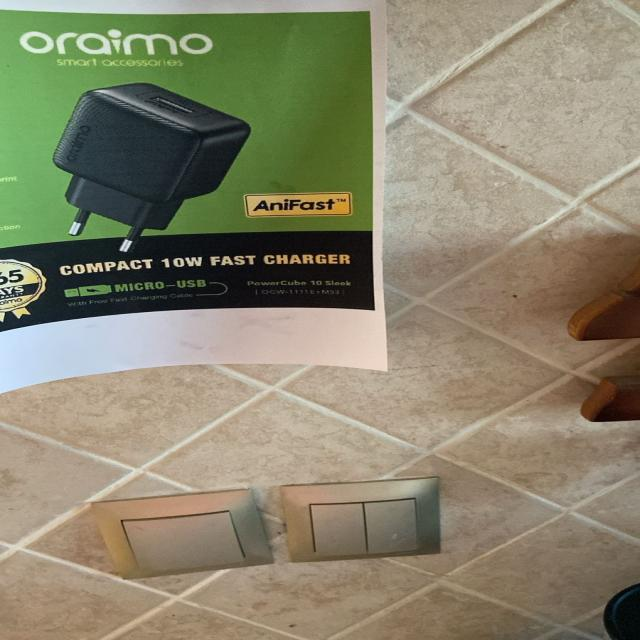PowerCube 10 Sleek OCW-1111ExM53: (243, 279, 357, 296)
